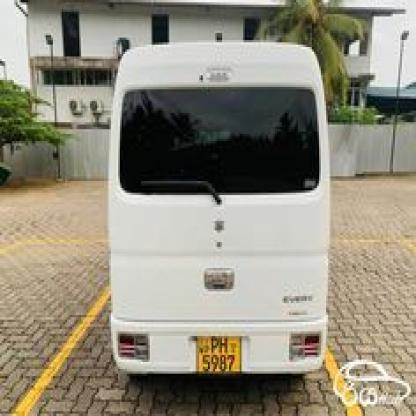number plate: (197, 332, 240, 374)
van back: (108, 35, 329, 379)
